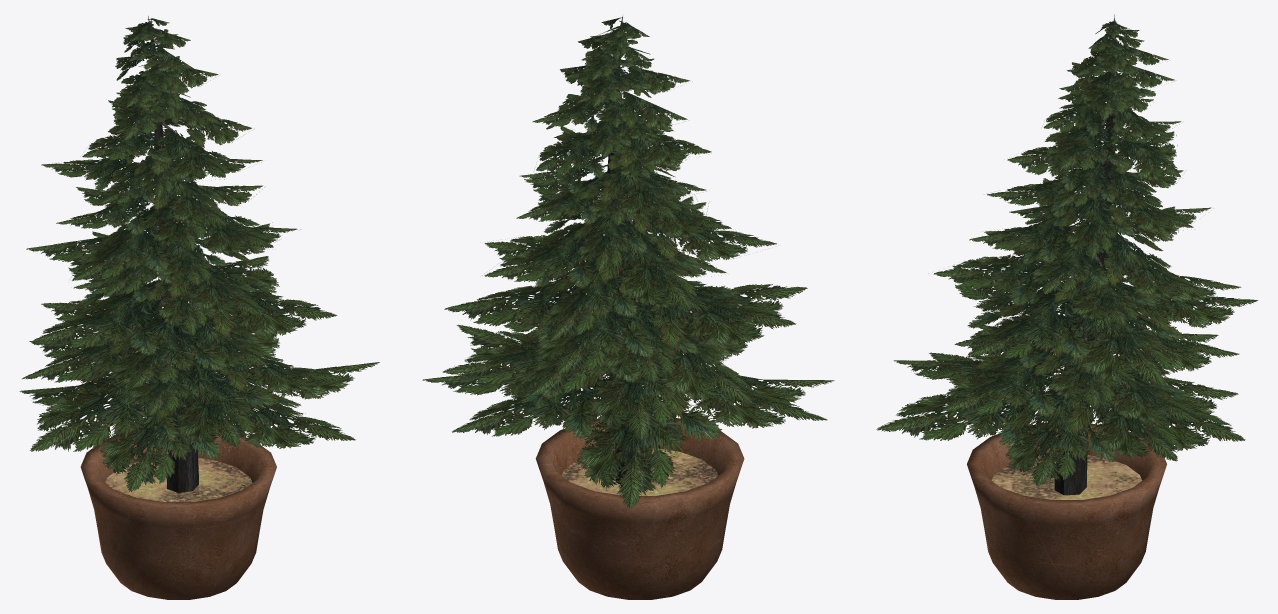
File: Pot_1 - back.FBX
3 renders of one model, left to right at view 1: azimuth 30°, elevation 25°; view 2: azimuth 150°, elevation 25°; view 3: azimuth 270°, elevation 25°, orthographic. The views are drawn at different scales.
Visible parts, largest first — view 1: Pot_1; view 2: Pot_1; view 3: Pot_1.
Boxes of the visible parts, x1,y1,x2,y2 form: Pot_1: (19, 16, 379, 599); Pot_1: (422, 16, 834, 599); Pot_1: (876, 14, 1257, 599).
Bounding box in the file's own units: 39.27 × 56.58 × 36.31.
